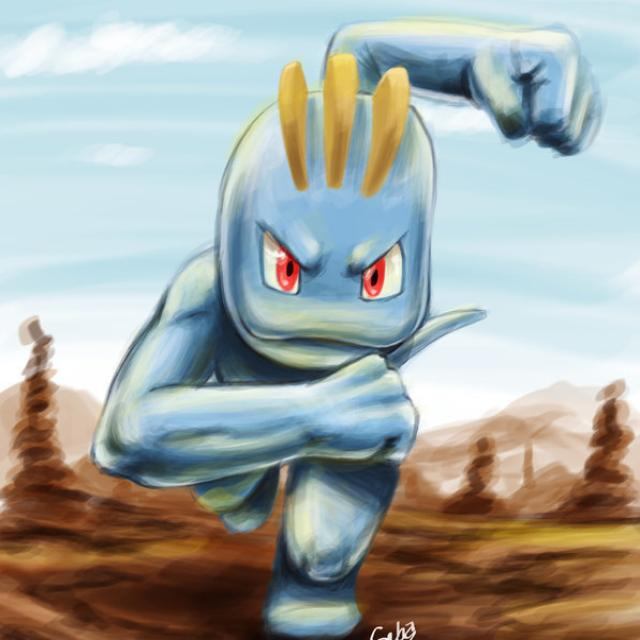Machop: (98, 10, 607, 602)
